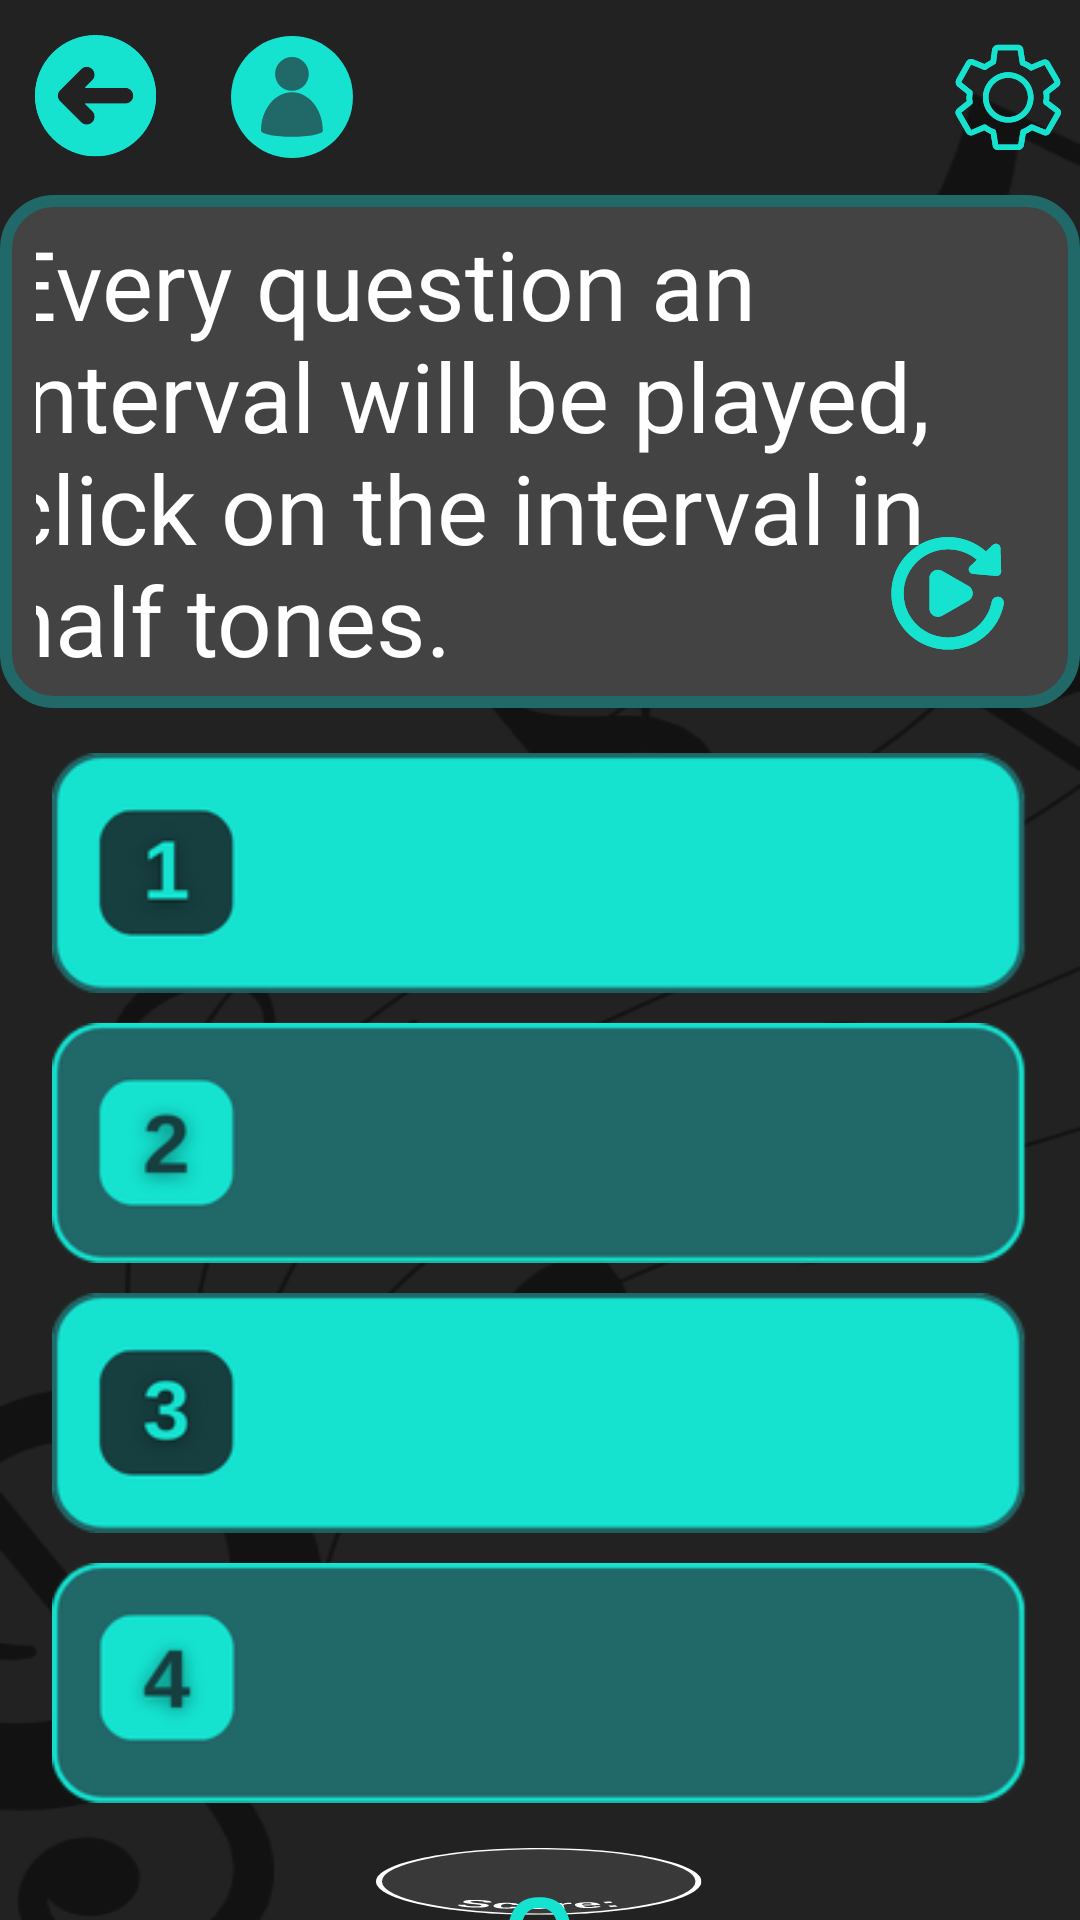

Icon click points for this 1080 x 1920 phone screenshot, format (x=x, y=y):
back: (x=95, y=96)
profile: (x=292, y=97)
settings: (x=1008, y=97)
